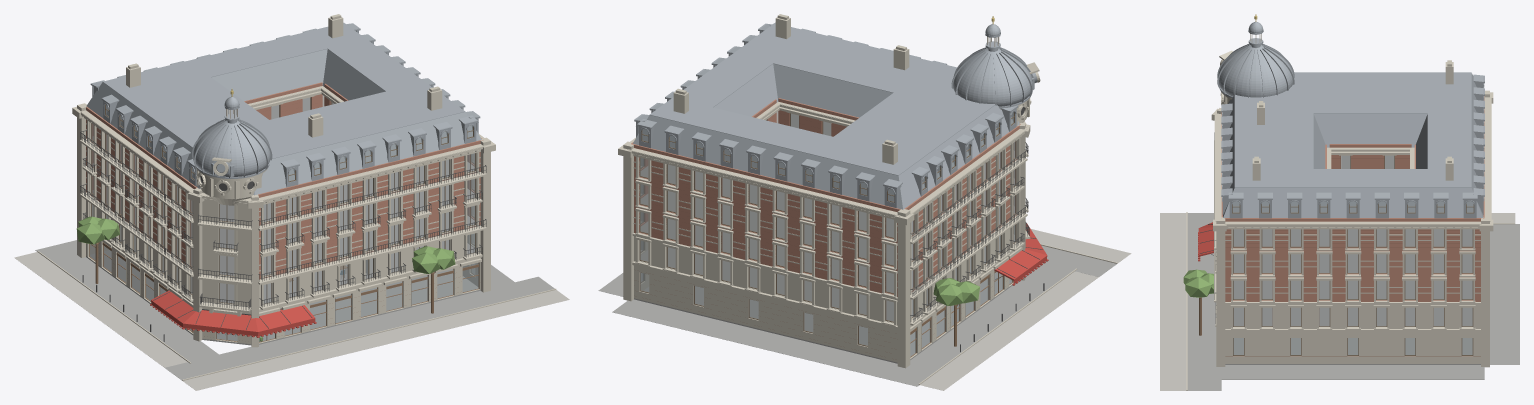
Rendered from clay-zinc-dome-corner-block-clay-v003.glb.
3 views of the same model, side by side, from view 1: azimuth 30°, elevation 25°; view 2: azimuth 150°, elevation 25°; view 3: azimuth 270°, elevation 25° (orthographic). The views are drawn at different scales.
Parts seen in each view (by area): view 1: CLAY_STONE, CLAY_ZINC, CLAY_FOUNDATION, CLAY_GLASS, CLAY_WALL, CLAY_CONCRETE, CLAY_HARDWARE, CLAY_FLOOR, CLAY_TRIM, CLAY_AWNING, CLAY_PLANTING, CLAY_TIMBER; view 2: CLAY_STONE, CLAY_ZINC, CLAY_WALL, CLAY_FOUNDATION, CLAY_GLASS, CLAY_FLOOR, CLAY_CONCRETE, CLAY_TRIM, CLAY_HARDWARE, CLAY_AWNING, CLAY_PLANTING, CLAY_TIMBER; view 3: CLAY_ZINC, CLAY_STONE, CLAY_FOUNDATION, CLAY_WALL, CLAY_GLASS, CLAY_FLOOR, CLAY_CONCRETE, CLAY_TRIM, CLAY_JOINT, CLAY_PLANTING, CLAY_AWNING.
Part boxes in pixels (x1,y1,x2,y2): CLAY_STONE: [37, 17, 556, 380]; CLAY_ZINC: [86, 22, 481, 195]; CLAY_FOUNDATION: [35, 240, 554, 380]; CLAY_GLASS: [89, 97, 478, 341]; CLAY_WALL: [86, 82, 483, 279]; CLAY_CONCRETE: [14, 252, 569, 390]; CLAY_HARDWARE: [80, 130, 486, 341]; CLAY_FLOOR: [92, 95, 474, 303]; CLAY_TRIM: [91, 97, 475, 304]; CLAY_AWNING: [150, 290, 316, 337]; CLAY_PLANTING: [76, 216, 455, 341]; CLAY_TIMBER: [89, 242, 479, 342]; CLAY_STONE: [618, 17, 1117, 384]; CLAY_ZINC: [633, 22, 1037, 209]; CLAY_WALL: [631, 98, 1020, 296]; CLAY_FOUNDATION: [598, 245, 1116, 386]; CLAY_GLASS: [640, 112, 1015, 356]; CLAY_FLOOR: [640, 111, 1014, 321]; CLAY_CONCRETE: [920, 229, 1131, 390]; CLAY_TRIM: [639, 112, 1016, 346]; CLAY_HARDWARE: [910, 107, 1044, 352]; CLAY_AWNING: [994, 223, 1048, 285]; CLAY_PLANTING: [933, 278, 1012, 305]; CLAY_TIMBER: [910, 271, 1013, 357]; CLAY_ZINC: [1217, 21, 1484, 218]; CLAY_STONE: [1186, 50, 1515, 390]; CLAY_FOUNDATION: [1187, 213, 1519, 390]; CLAY_WALL: [1221, 96, 1484, 301]; CLAY_GLASS: [1232, 155, 1473, 354]; CLAY_FLOOR: [1233, 155, 1472, 326]; CLAY_CONCRETE: [1160, 213, 1515, 390]; CLAY_TRIM: [1232, 155, 1474, 355]; CLAY_JOINT: [1225, 158, 1480, 356]; CLAY_PLANTING: [1183, 269, 1213, 297]; CLAY_AWNING: [1198, 222, 1213, 261].
Size of the model in its own units: 48 by 30.1 by 41.
